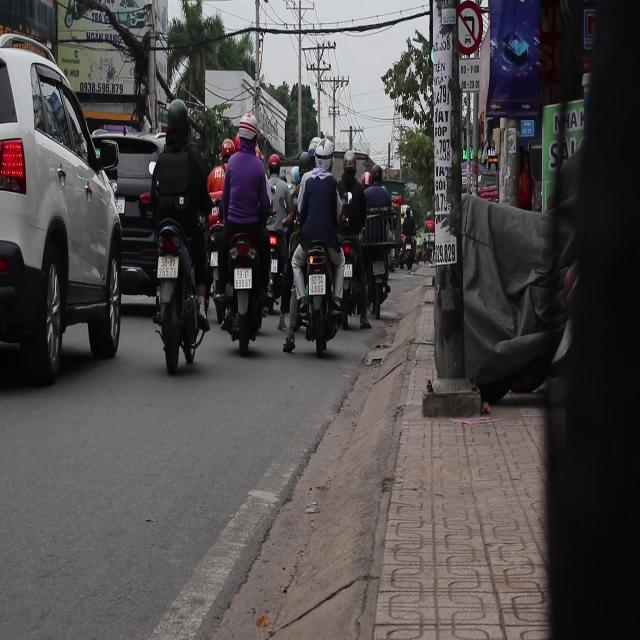car: (1, 29, 124, 383), (93, 129, 165, 299)
motorbike: (146, 143, 214, 374), (224, 223, 267, 360), (302, 234, 336, 364)
